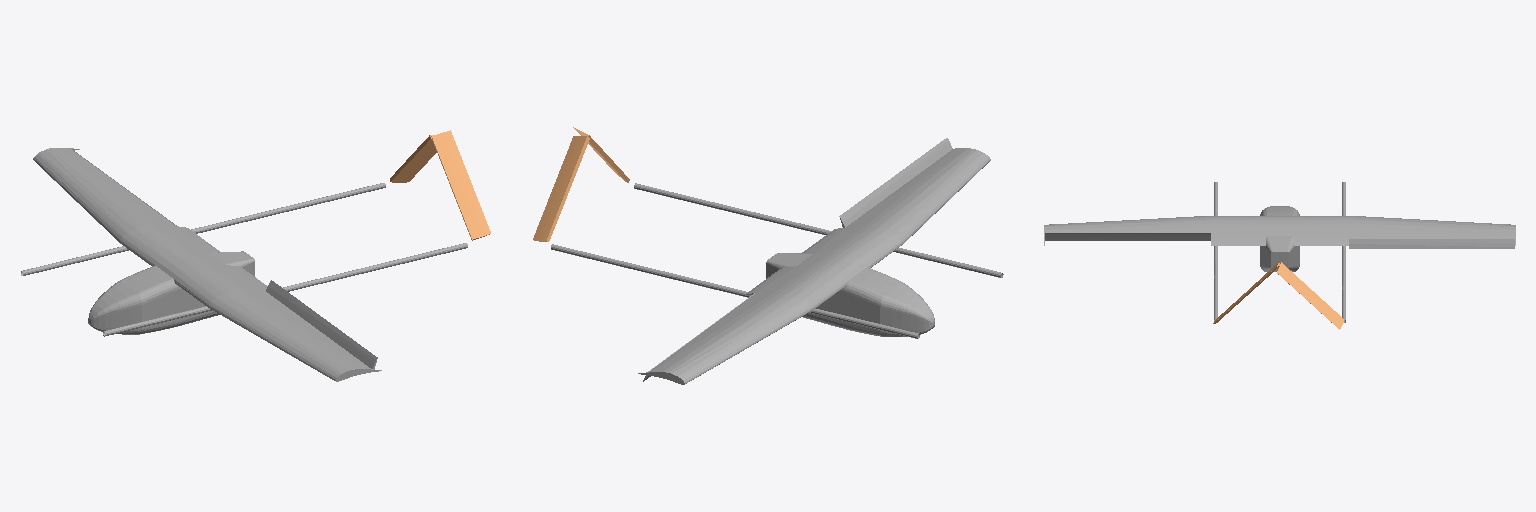
URDF robot description (VTOL1):
<?xml version="1.0" encoding="utf-8"?>
<!-- This URDF was automatically created by SolidWorks to URDF Exporter! Originally created by [author] ([email redacted]) 
     Commit Version: 1.5.1-0-g916b5db  Build Version: 1.5.7152.31018
     For more information, please see http://wiki.ros.org/sw_urdf_exporter -->
<robot
  name="VTOL1">
  <link
    name="body">
    <inertial>
      <origin
        xyz="0.0504111929768526 -0.101085838005667 -2.3713620267578E-06"
        rpy="0 0 0" />
      <mass
        value="29.4768932219082" />
      <inertia
        ixx="0.275688335853474"
        ixy="-0.0664232692831494"
        ixz="6.59915920128915E-06"
        iyy="1.15551973507844"
        iyz="-2.68116677751175E-06"
        izz="1.09921329572917" />
    </inertial>
    <visual>
      <origin
        xyz="0 0 0"
        rpy="0 0 0" />
      <geometry>
        <mesh
          filename="package://VTOL1/meshes/body.STL" />
      </geometry>
      <material
        name="">
        <color
          rgba="0.698039215686274 0.698039215686274 0.698039215686274 1" />
      </material>
    </visual>
    <collision>
      <origin
        xyz="0 0 0"
        rpy="0 0 0" />
      <geometry>
        <mesh
          filename="package://VTOL1/meshes/body.STL" />
      </geometry>
    </collision>
  </link>
  <link
    name="left_aileron">
    <inertial>
      <origin
        xyz="0.0173755762436829 -0.00831222619780897 0.454319682218128"
        rpy="0 0 0" />
      <mass
        value="0.00903605160646564" />
      <inertia
        ixx="0.00063270135370979"
        ixy="3.81962755189131E-07"
        ixz="-1.7839120583212E-07"
        iyy="0.000634127353904191"
        iyz="4.25490321086521E-07"
        izz="1.74678841064409E-06" />
    </inertial>
    <visual>
      <origin
        xyz="0 0 0"
        rpy="0 0 0" />
      <geometry>
        <mesh
          filename="package://VTOL1/meshes/left_aileron.STL" />
      </geometry>
      <material
        name="">
        <color
          rgba="0.698039215686274 0.698039215686274 0.698039215686274 1" />
      </material>
    </visual>
    <collision>
      <origin
        xyz="0 0 0"
        rpy="0 0 0" />
      <geometry>
        <mesh
          filename="package://VTOL1/meshes/left_aileron.STL" />
      </geometry>
    </collision>
  </link>
  <joint
    name="body_l_aileron"
    type="continuous">
    <origin
      xyz="0.28599 -0.38 0.006356"
      rpy="1.5708 -1.3797 0" />
    <parent
      link="body" />
    <child
      link="left_aileron" />
    <axis
      xyz="0 0 1" />
  </joint>
  <link
    name="right_aileron">
    <inertial>
      <origin
        xyz="0.0173776397696669 -0.00831213697853425 -0.454206675996241"
        rpy="0 0 0" />
      <mass
        value="0.00903935060430791" />
      <inertia
        ixx="0.000633067014976347"
        ixy="3.82067427338937E-07"
        ixz="1.74849700652051E-07"
        iyy="0.000634493338873257"
        iyz="-4.26287317599231E-07"
        izz="1.74761288104254E-06" />
    </inertial>
    <visual>
      <origin
        xyz="0 0 0"
        rpy="0 0 0" />
      <geometry>
        <mesh
          filename="package://VTOL1/meshes/right_aileron.STL" />
      </geometry>
      <material
        name="">
        <color
          rgba="0.698039215686274 0.698039215686274 0.698039215686274 1" />
      </material>
    </visual>
    <collision>
      <origin
        xyz="0 0 0"
        rpy="0 0 0" />
      <geometry>
        <mesh
          filename="package://VTOL1/meshes/right_aileron.STL" />
      </geometry>
    </collision>
  </link>
  <joint
    name="b_r_aileron"
    type="continuous">
    <origin
      xyz="0.28599 0.38 0.006356"
      rpy="1.5708 0.80349 0" />
    <parent
      link="body" />
    <child
      link="right_aileron" />
    <axis
      xyz="0 0 1" />
  </joint>
  <link
    name="tail">
    <inertial>
      <origin
        xyz="0.104477989245471 -0.102859991867877 0.10285976304222"
        rpy="0 0 0" />
      <mass
        value="0.0666933871810262" />
      <inertia
        ixx="0.00131879570198045"
        ixy="6.22636459353277E-05"
        ixz="-6.2278503704694E-05"
        iyy="0.000753735100418986"
        iyz="5.2686826813289E-07"
        izz="0.00075372875471175" />
    </inertial>
    <visual>
      <origin
        xyz="0 0 0"
        rpy="0 0 0" />
      <geometry>
        <mesh
          filename="package://VTOL1/meshes/tail.STL" />
      </geometry>
      <material
        name="">
        <color
          rgba="0.698039215686274 0.698039215686274 0.698039215686274 1" />
      </material>
    </visual>
    <collision>
      <origin
        xyz="0 0 0"
        rpy="0 0 0" />
      <geometry>
        <mesh
          filename="package://VTOL1/meshes/tail.STL" />
      </geometry>
    </collision>
  </link>
  <joint
    name="body_tail"
    type="fixed">
    <origin
      xyz="1.16 0 0.34355"
      rpy="2.3562 0 0" />
    <parent
      link="body" />
    <child
      link="tail" />
    <axis
      xyz="0 0 0" />
  </joint>
  <link
    name="left_ruddervator">
    <inertial>
      <origin
        xyz="0.0296809435420739 -0.0071512028218732 0.243672385876262"
        rpy="0 0 0" />
      <mass
        value="0.012294771856547" />
      <inertia
        ixx="0.000250341833083767"
        ixy="3.24985459736578E-10"
        ixz="-2.28974860119505E-07"
        iyy="0.000255955032624215"
        iyz="-6.18801276598573E-09"
        izz="6.05563141121459E-06" />
    </inertial>
    <visual>
      <origin
        xyz="0 0 0"
        rpy="0 0 0" />
      <geometry>
        <mesh
          filename="package://VTOL1/meshes/left_ruddervator.STL" />
      </geometry>
      <material
        name="">
        <color
          rgba="0.988235294117647 0.737254901960784 0.517647058823529 1" />
      </material>
    </visual>
    <collision>
      <origin
        xyz="0 0 0"
        rpy="0 0 0" />
      <geometry>
        <mesh
          filename="package://VTOL1/meshes/left_ruddervator.STL" />
      </geometry>
    </collision>
  </link>
  <joint
    name="tail_lrv"
    type="continuous">
    <origin
      xyz="0.16775 0.0071531 0"
      rpy="0 0 2.1596" />
    <parent
      link="tail" />
    <child
      link="left_ruddervator" />
    <axis
      xyz="0 0 1" />
  </joint>
  <link
    name="right_ruddervator">
    <inertial>
      <origin
        xyz="0.0405722773660111 -0.245271646705892 0.00845649756367062"
        rpy="0 0 0" />
      <mass
        value="0.0122947626571706" />
      <inertia
        ixx="0.000250340480340787"
        ixy="2.29027765159179E-07"
        ixz="-3.22626900306597E-10"
        iyy="6.05556171096418E-06"
        iyz="-6.17190727275402E-09"
        izz="0.00025595361018012" />
    </inertial>
    <visual>
      <origin
        xyz="0 0 0"
        rpy="0 0 0" />
      <geometry>
        <mesh
          filename="package://VTOL1/meshes/right_ruddervator.STL" />
      </geometry>
      <material
        name="">
        <color
          rgba="0.988235294117647 0.737254901960784 0.517647058823529 1" />
      </material>
    </visual>
    <collision>
      <origin
        xyz="0 0 0"
        rpy="0 0 0" />
      <geometry>
        <mesh
          filename="package://VTOL1/meshes/right_ruddervator.STL" />
      </geometry>
    </collision>
  </link>
  <joint
    name="tail_rrv"
    type="continuous">
    <origin
      xyz="0.15943 0.0015995 0"
      rpy="0 0.82964 0" />
    <parent
      link="tail" />
    <child
      link="right_ruddervator" />
    <axis
      xyz="0 1 0" />
  </joint>
</robot>

--- Render facts (derived) ---
Views: 3 orthographic renders of the robot side by side, from view 1: azimuth 30°, elevation 25°; view 2: azimuth 150°, elevation 25°; view 3: azimuth 270°, elevation 25°.
Robot: VTOL1 — 6 links, 5 joints (4 continuous, 1 fixed); root link body; default pose: all joints at 0.
Links seen in each view (by area): view 1: body, left_ruddervator, left_aileron, right_ruddervator; view 2: body, right_ruddervator, left_aileron; view 3: body, right_aileron, left_aileron, right_ruddervator.
Boxes of the visible links, x1,y1,x2,y2 form: body: [21, 148, 467, 381]; left_ruddervator: [431, 130, 490, 240]; left_aileron: [266, 280, 377, 369]; right_ruddervator: [390, 135, 436, 182]; body: [551, 148, 1003, 384]; right_ruddervator: [533, 136, 589, 241]; left_aileron: [839, 138, 952, 227]; body: [1044, 182, 1515, 322]; right_aileron: [1349, 239, 1514, 248]; left_aileron: [1045, 233, 1210, 240]; right_ruddervator: [1277, 262, 1343, 329].
Bounding box of the posed robot: 1.91 × 2.6 × 0.5836 m (x, y, z).
Meshes: 6 distinct files referenced, 5 mesh visuals loaded (5 binary STL); not drawn: 1 (reference not matched to a file when rendering).